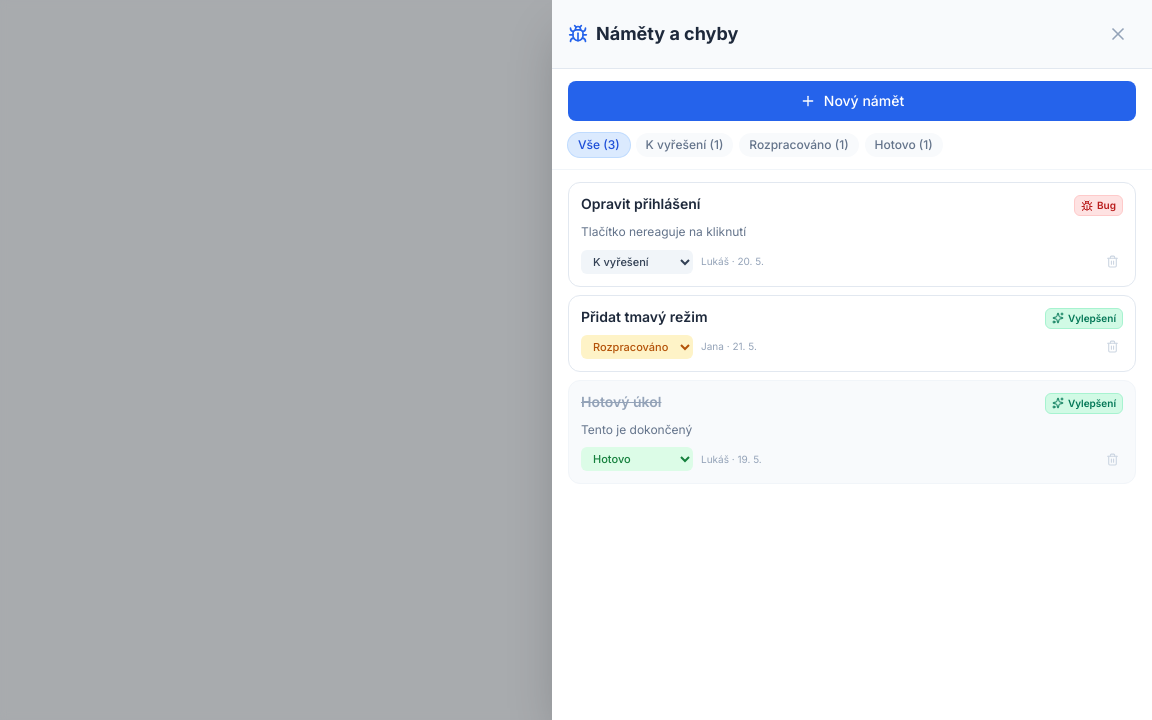
Test: IssueDrawer › deletes an issue
Expected: the heading "Opravit přihlášení" is shown, [581, 195, 700, 212]
Click the button titled "Smazat" in the row of "20. 5.".
click(1112, 262)  # box [1102, 251, 1123, 272]
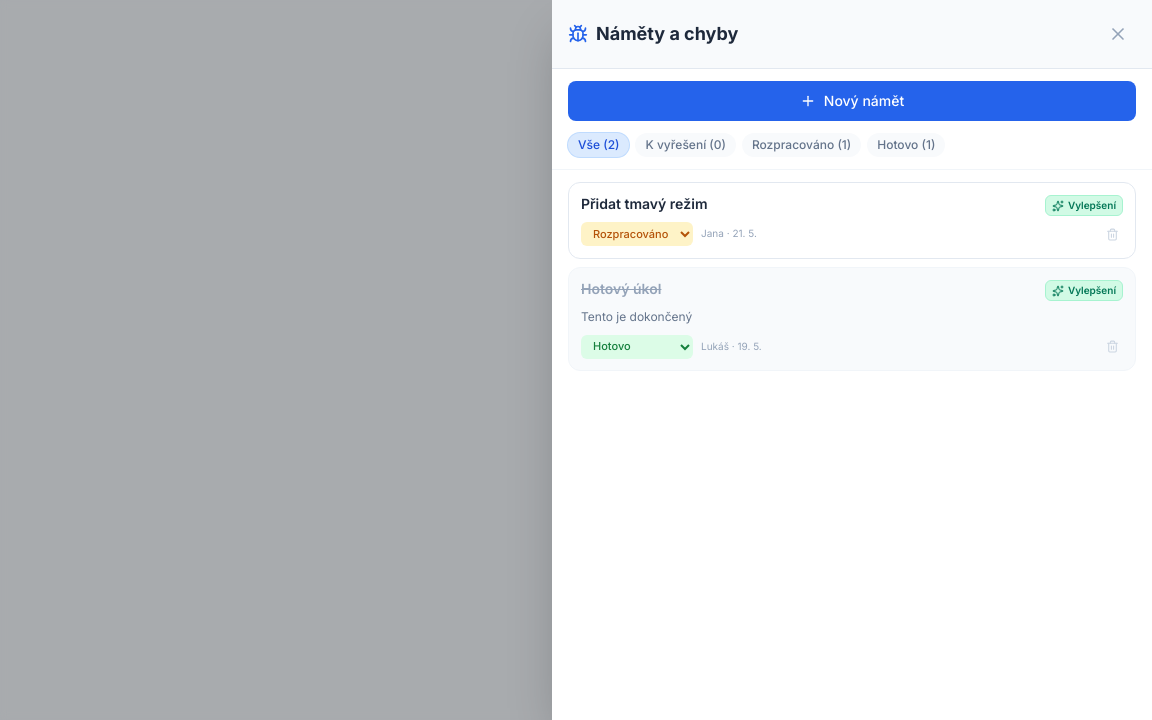
Now the heading "Opravit přihlášení" is gone
